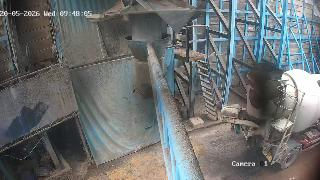cement_mixer_truck: (219, 61, 320, 168)
swing_chute: (125, 33, 172, 100)
